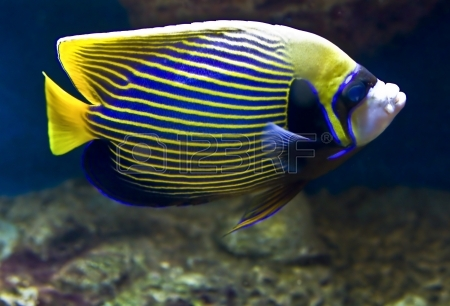Pomacanthus_imperator: (23, 17, 405, 236)
